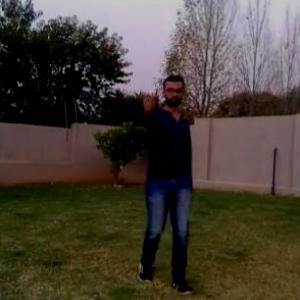takeoff-hand: (135, 81, 160, 113)
